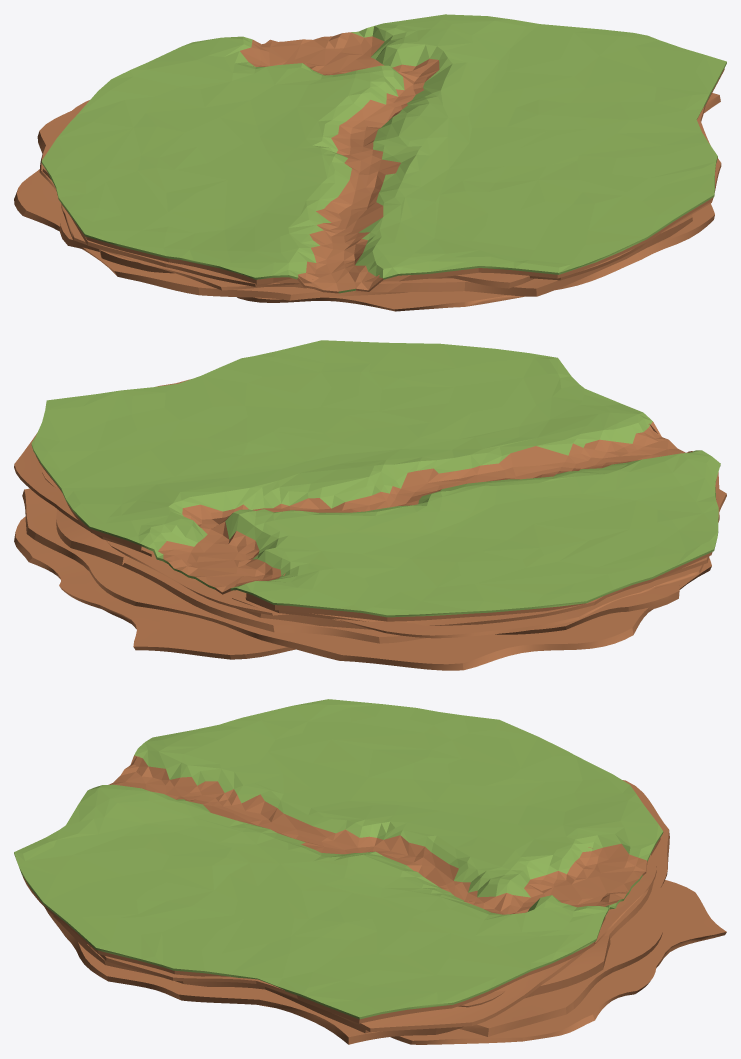
Rendered from Terrain_01.FBX.
3 views of the same model, one above another, from view 1: azimuth 30°, elevation 25°; view 2: azimuth 150°, elevation 25°; view 3: azimuth 270°, elevation 25° (orthographic).
Parts seen in each view (by area): view 1: Grass, GroundLayer_05, GroundLayer_02, GroundLayer_06, GroundLayer_00, GroundLayer_04, GroundLayer_03, GroundLayer_01; view 2: Grass, GroundLayer_05, GroundLayer_06, GroundLayer_04, GroundLayer_03, GroundLayer_01, GroundLayer_02, GroundLayer_00; view 3: Grass, GroundLayer_06, GroundLayer_05, GroundLayer_03, GroundLayer_01, GroundLayer_02, GroundLayer_00, GroundLayer_04.
Part boxes in pixels (<box>): Grass: <box>41,14,726,293</box>; GroundLayer_05: <box>14,111,407,300</box>; GroundLayer_02: <box>99,214,692,296</box>; GroundLayer_06: <box>237,39,525,311</box>; GroundLayer_00: <box>61,68,724,284</box>; GroundLayer_04: <box>39,100,533,290</box>; GroundLayer_03: <box>60,93,720,290</box>; GroundLayer_01: <box>42,66,721,286</box>; Grass: <box>31,340,720,617</box>; GroundLayer_05: <box>22,488,711,670</box>; GroundLayer_06: <box>14,516,295,659</box>; GroundLayer_04: <box>42,468,726,638</box>; GroundLayer_03: <box>103,557,680,643</box>; GroundLayer_01: <box>14,379,719,625</box>; GroundLayer_02: <box>56,509,371,629</box>; GroundLayer_00: <box>36,423,712,621</box>; Grass: <box>14,699,663,1019</box>; GroundLayer_06: <box>259,880,726,1044</box>; GroundLayer_05: <box>459,780,669,1036</box>; GroundLayer_03: <box>45,881,653,1044</box>; GroundLayer_01: <box>22,847,592,1032</box>; GroundLayer_02: <box>52,861,647,1033</box>; GroundLayer_00: <box>24,756,660,1023</box>; GroundLayer_04: <box>458,852,656,1007</box>.
Size of the model in its own units: 1077 by 93.49 by 1017.
